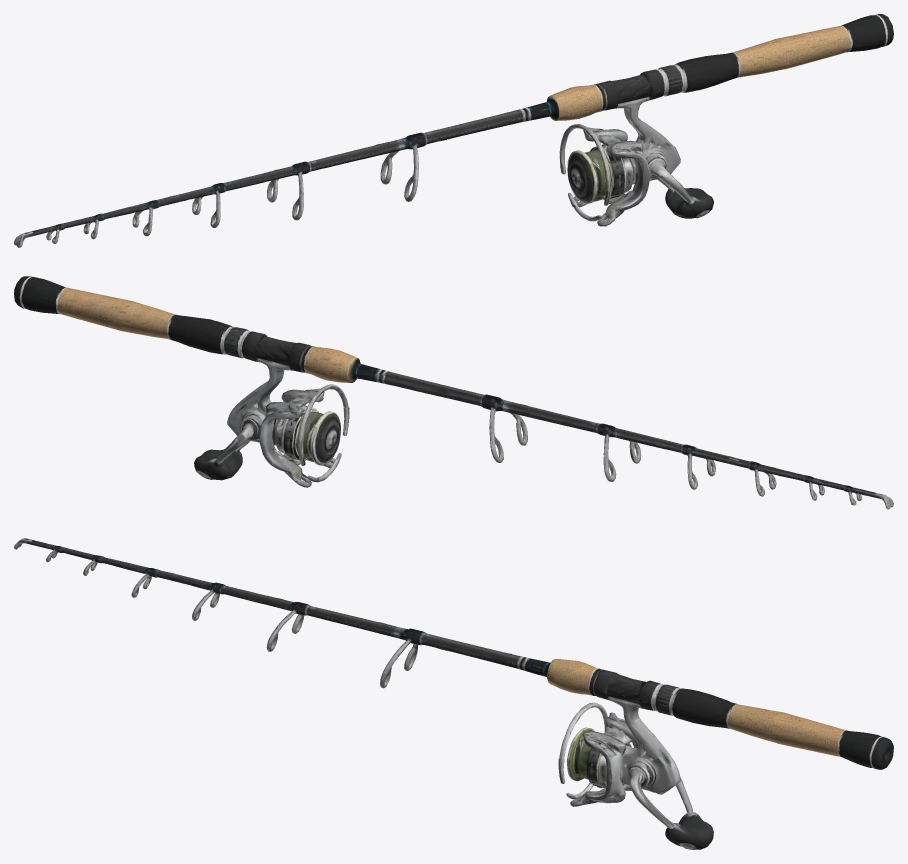
File: meshy_spinning_rod.glb
3 views of the same model, one above another, from view 1: azimuth 30°, elevation 25°; view 2: azimuth 150°, elevation 25°; view 3: azimuth 330°, elevation 25° (orthographic).
Visible parts, largest first — view 1: Mesh_0; view 2: Mesh_0; view 3: Mesh_0.
Boxes of the visible parts, left/top/right/bottom form: Mesh_0: left=14, top=14, right=893, bottom=247; Mesh_0: left=14, top=276, right=893, bottom=509; Mesh_0: left=14, top=538, right=893, bottom=849.
Size of the model in its own units: 1.9 by 0.3257 by 0.1843.
Materials: 1 (1 with a texture image).
